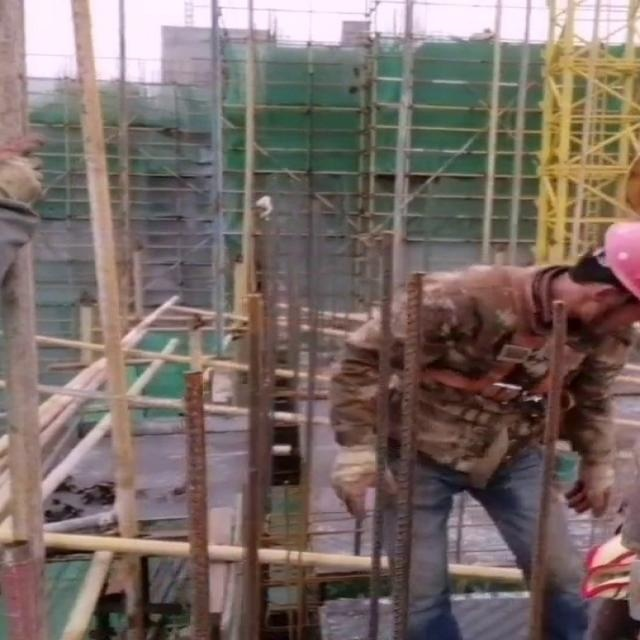Arnes_seguridad: (408, 260, 596, 409)
